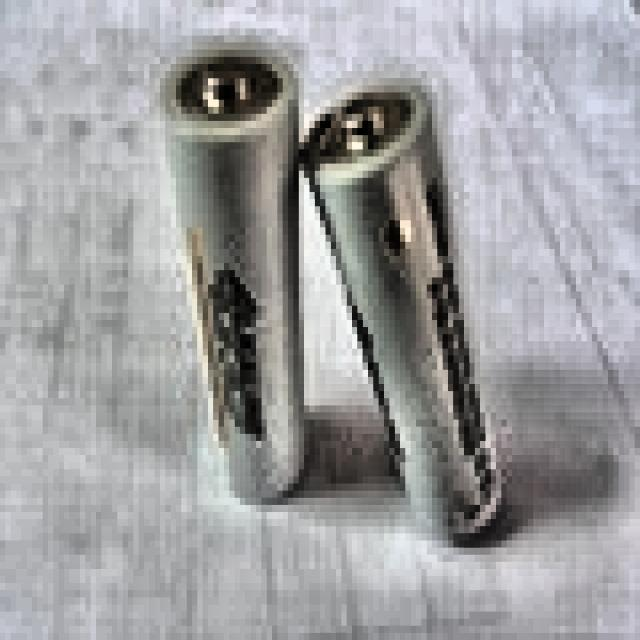Non-Valuable Waste - Batteries: (305, 85, 500, 538), (166, 50, 304, 499)
